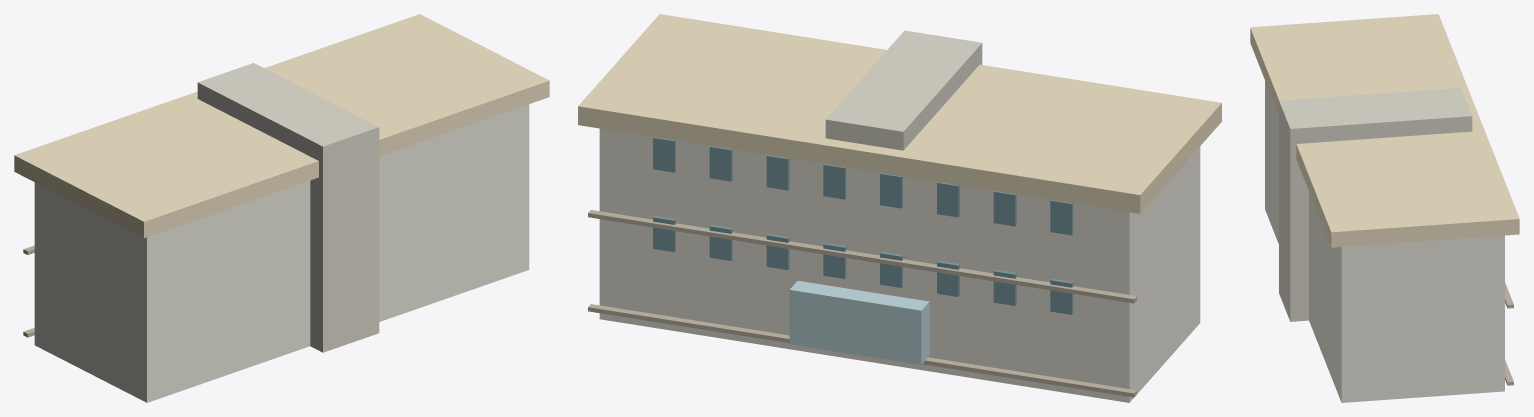
The model's file is pilheon-overview.glb.
The picture shows the model from 3 angles, left to right: view 1: azimuth 30°, elevation 25°; view 2: azimuth 150°, elevation 25°; view 3: azimuth 270°, elevation 25°; orthographic projection. The views are drawn at different scales.
Size of the model in its own units: 24.99 by 10.29 by 13.04.
